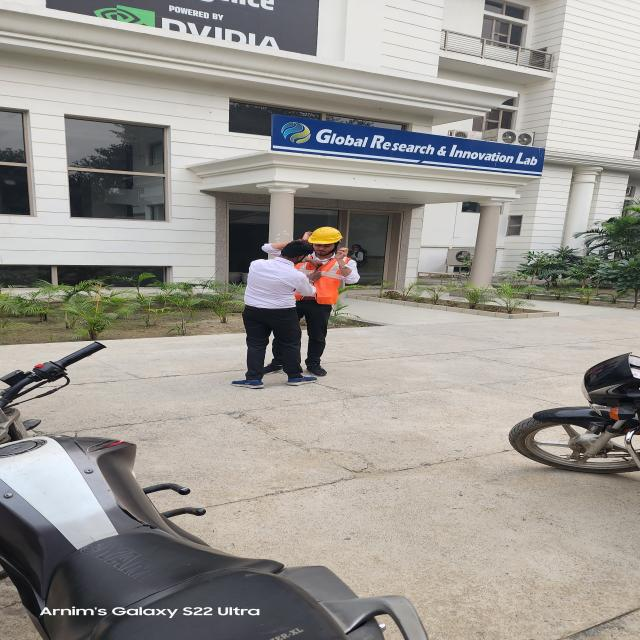safe: (303, 225, 345, 377)
unsafe: (242, 244, 310, 388), (351, 243, 365, 266)
